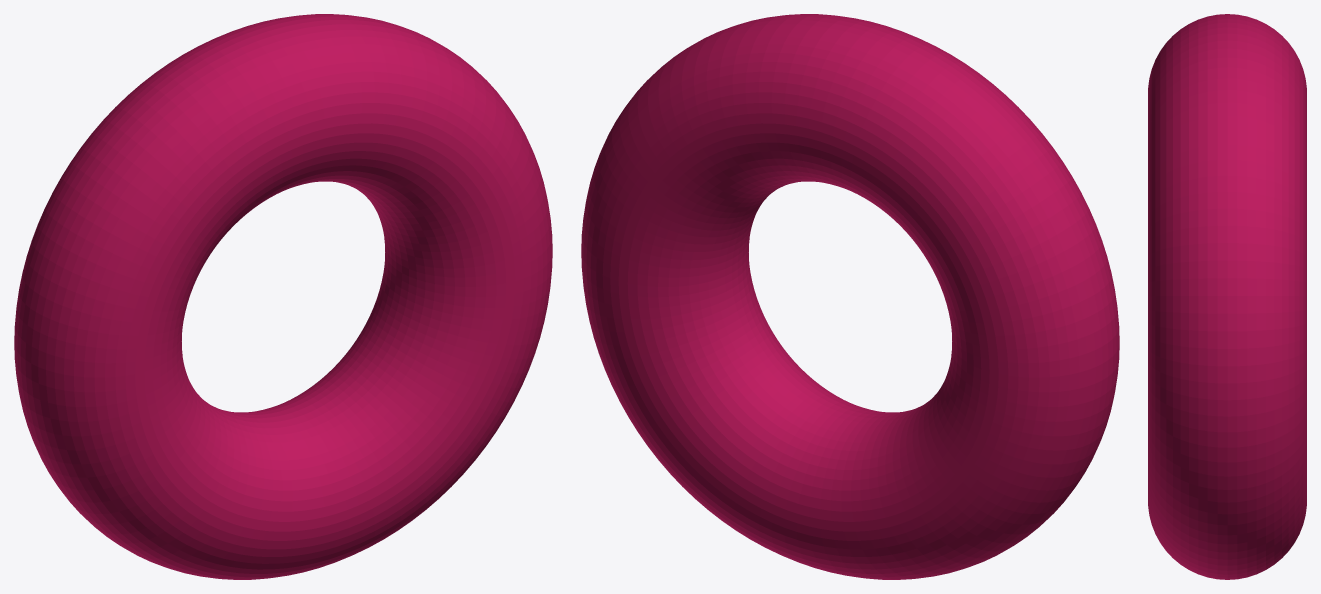
The picture shows the model from 3 angles, left to right: view 1: azimuth 30°, elevation 25°; view 2: azimuth 150°, elevation 25°; view 3: azimuth 270°, elevation 25°; orthographic projection. The views are drawn at different scales.
Visible parts, largest first — view 1: world; view 2: world; view 3: world.
Part boxes in pixels (box(x1,y1,x2,y2)): world: box(14, 14, 552, 579); world: box(581, 14, 1119, 579); world: box(1148, 14, 1306, 579).
Size of the model in its own units: 35.56 by 35.56 by 9.98.
